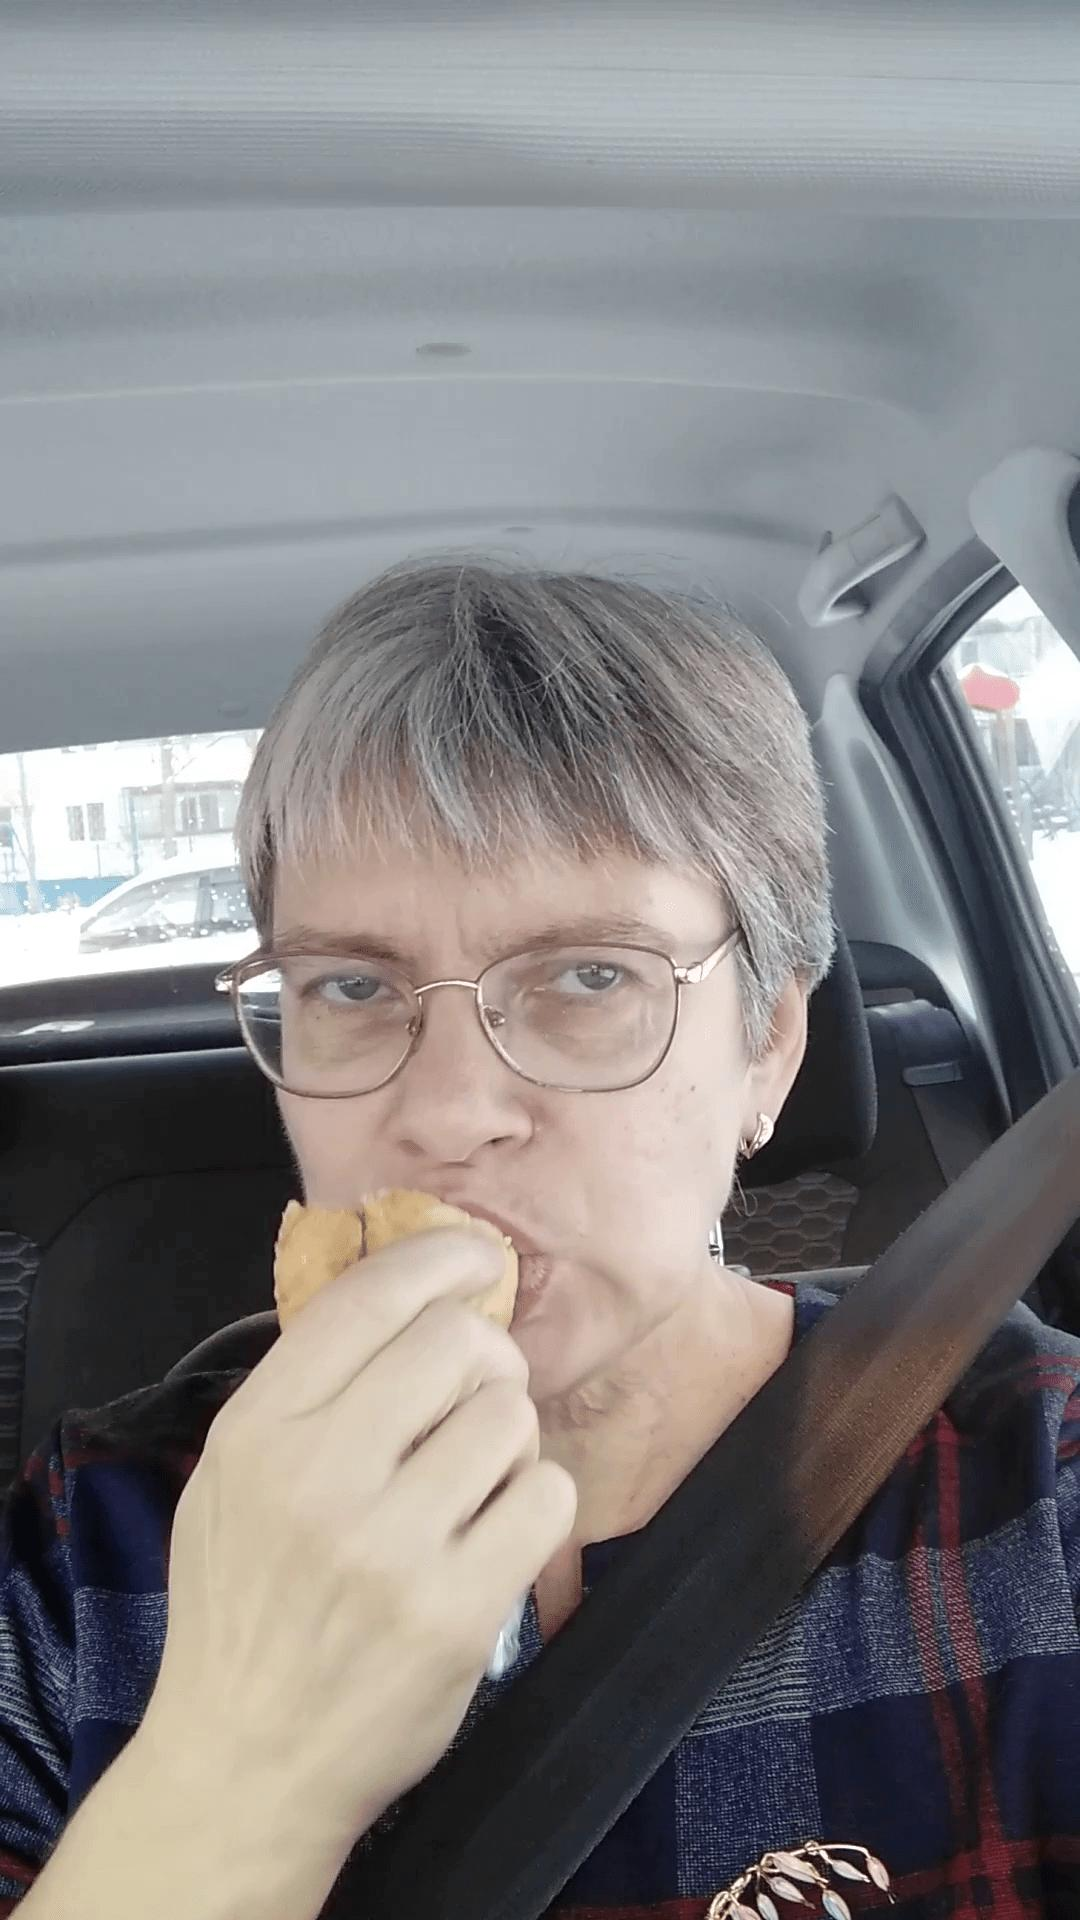Eating: (252, 1142, 563, 1491)
